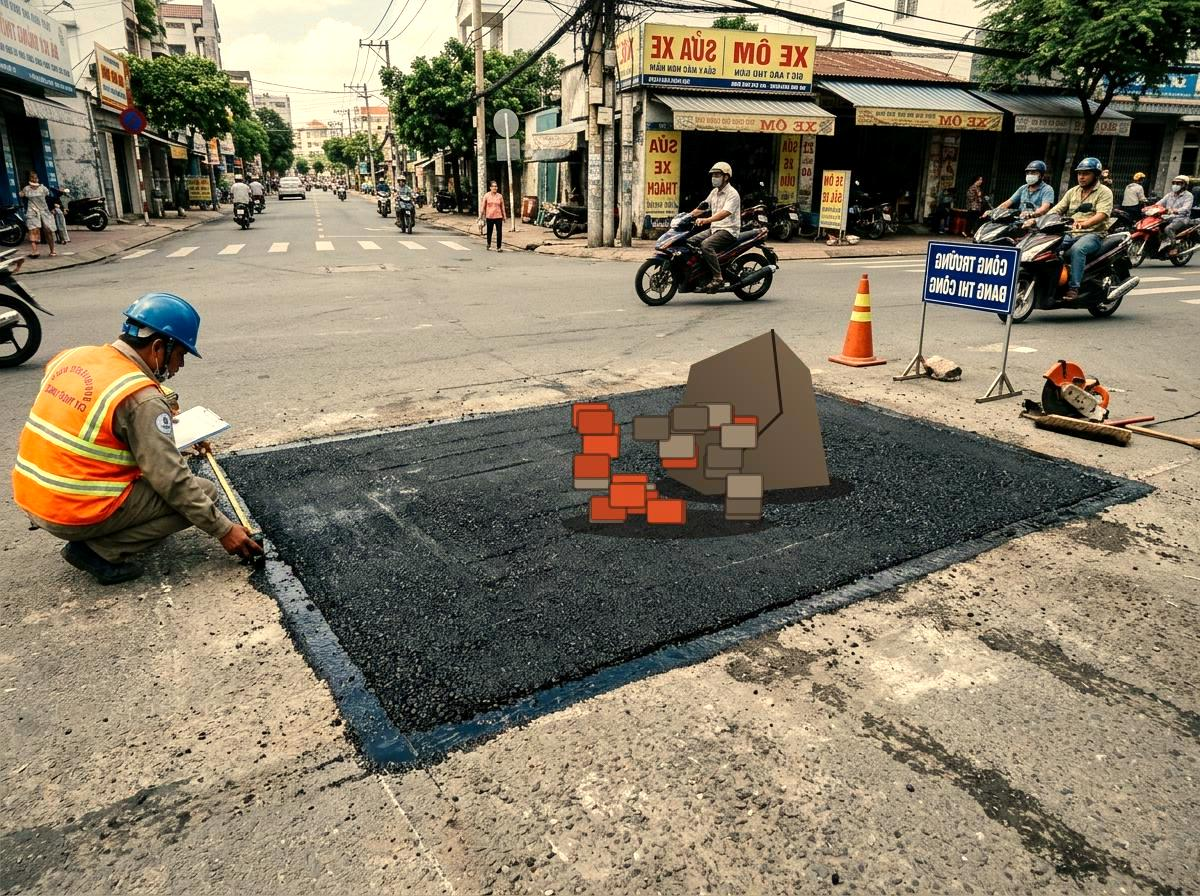ROAD_OBSTACLE: (560, 300, 870, 540)
